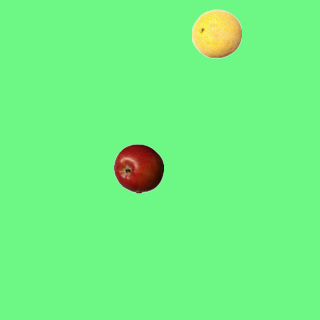Apple Braeburn: (113, 143, 163, 193)
Cantaloupe 1: (191, 8, 241, 58)
